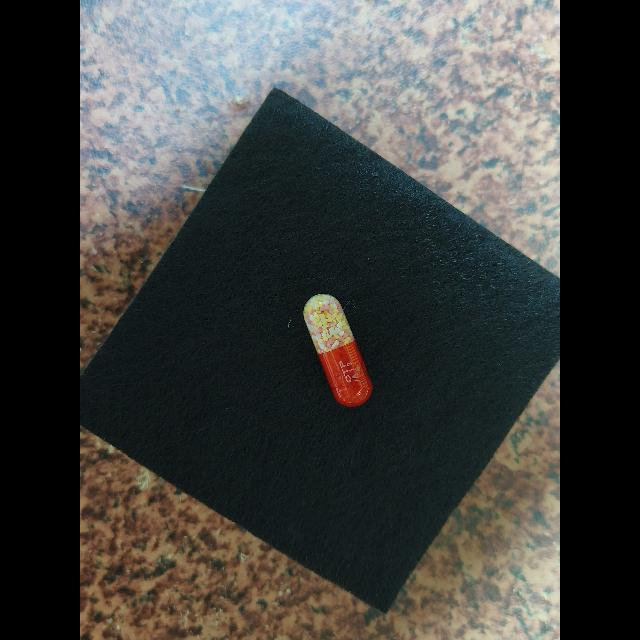Intact Capsule: (304, 294, 373, 407)
